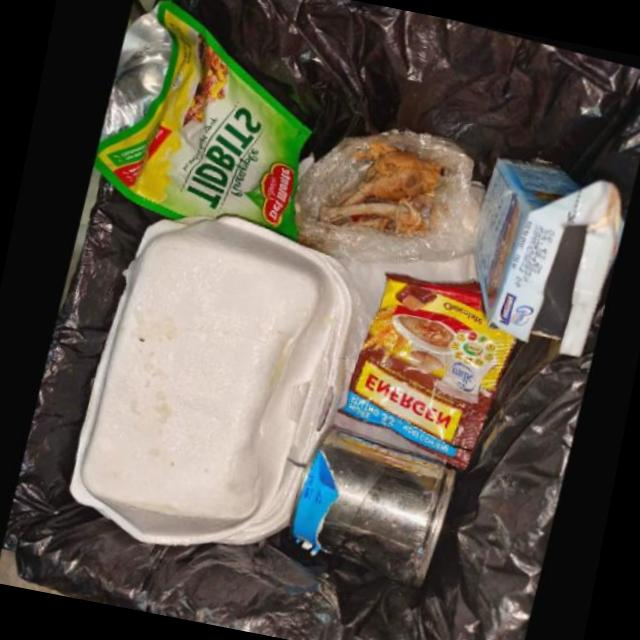bao_bi_thuc_pham: (84, 0, 301, 236)
goi_nhua_nho: (336, 265, 510, 462)
nhom: (287, 423, 452, 581)
thuc_an_thua: (310, 136, 432, 228)
tui_ni_long: (284, 122, 475, 257)
vo_hop_sua: (463, 148, 612, 349)
xop: (66, 210, 354, 544)
